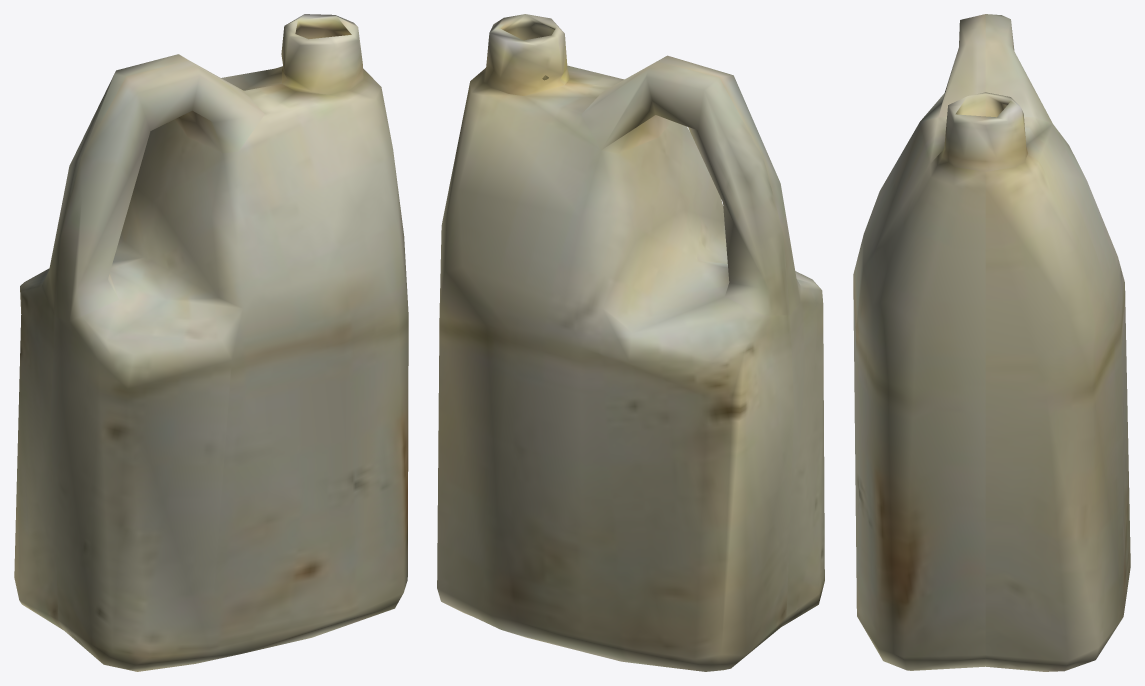
Rendered from plastic_bottle_gallon.glb.
3 renders of one model, left to right at view 1: azimuth 30°, elevation 25°; view 2: azimuth 150°, elevation 25°; view 3: azimuth 270°, elevation 25°, orthographic.
Parts seen in each view (by area): view 1: plastic_bottle_gallon; view 2: plastic_bottle_gallon; view 3: plastic_bottle_gallon.
Part boxes in pixels (x1,y1,x2,y2): plastic_bottle_gallon: (14,14,408,671); plastic_bottle_gallon: (437,14,824,671); plastic_bottle_gallon: (853,14,1130,671).
Bounding box in the file's own units: 0.1641 × 0.2736 × 0.1243.
1 material, 1 textured.
